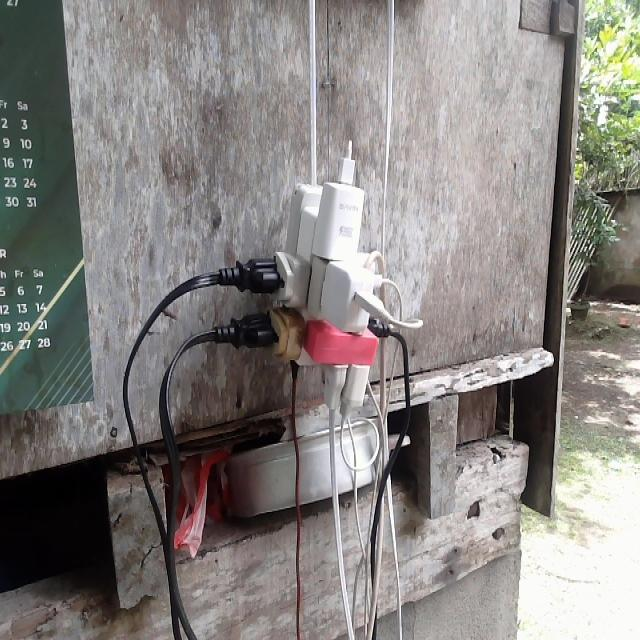-: (211, 144, 400, 421)
